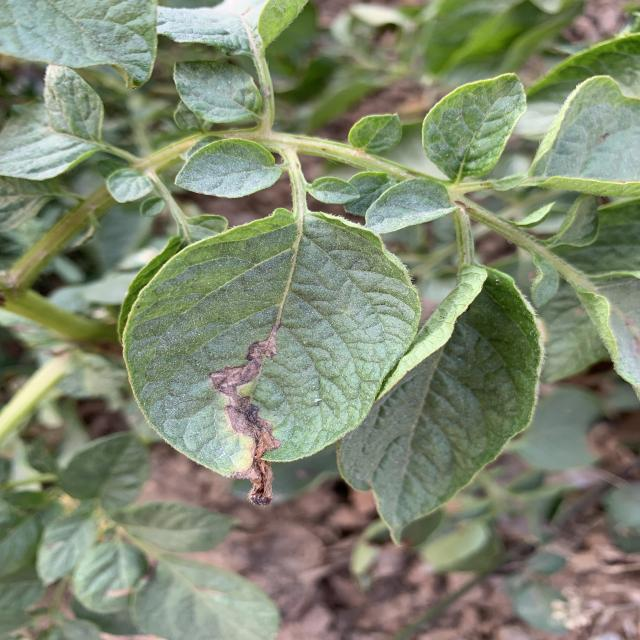lateblight: (208, 322, 280, 505)
